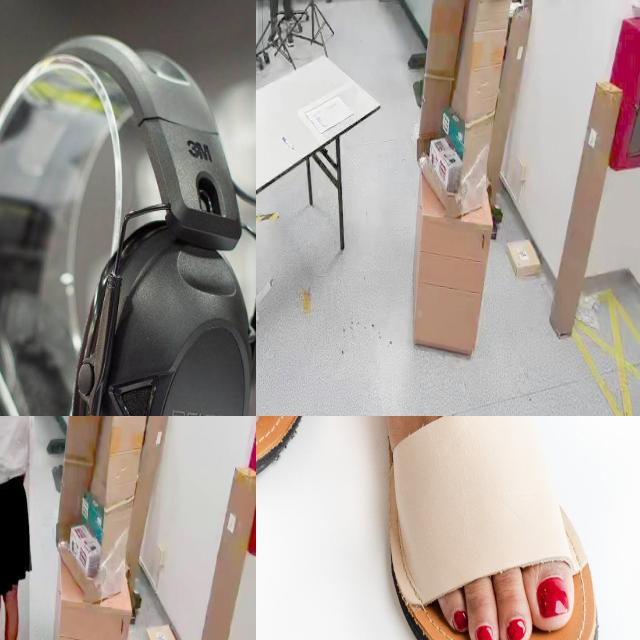Ear-protection: (70, 235, 256, 416)
Sandals: (347, 416, 602, 640)
person: (0, 416, 29, 640), (267, 0, 303, 38)
